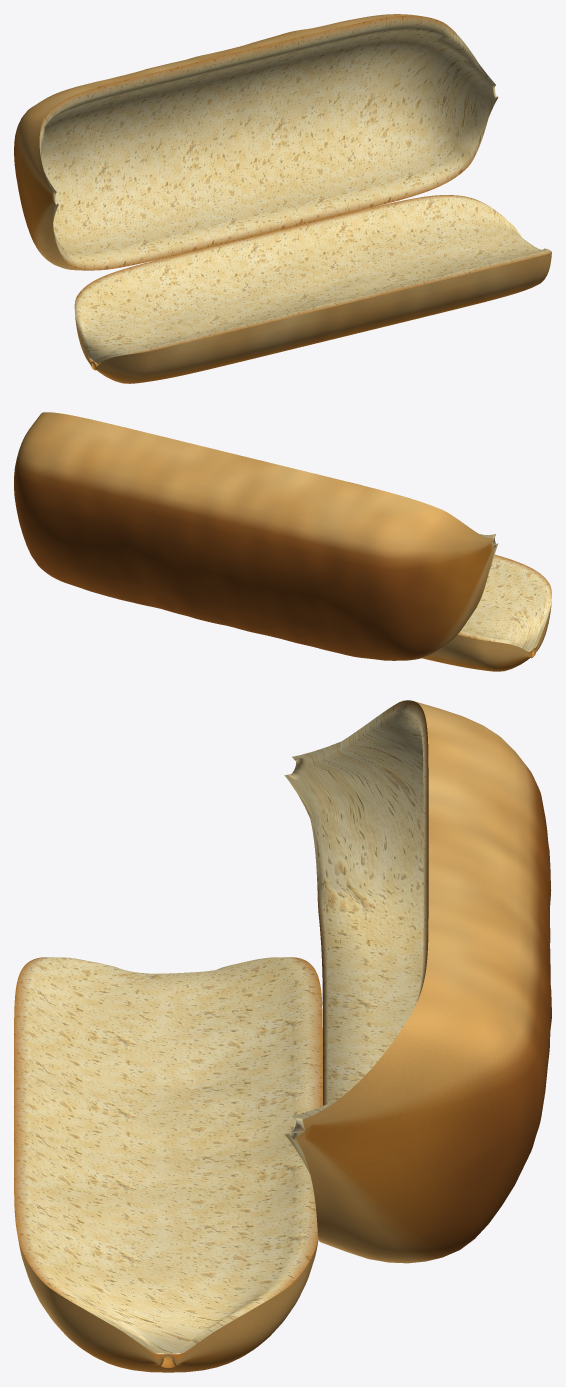
The model's file is dog-brioche.glb.
3 views of the same model, one above another, from view 1: azimuth 30°, elevation 25°; view 2: azimuth 150°, elevation 25°; view 3: azimuth 270°, elevation 25° (orthographic). The views are drawn at different scales.
Visible parts, largest first — view 1: dog_brioche_tampa, dog_brioche_base; view 2: dog_brioche_tampa, dog_brioche_base; view 3: dog_brioche_tampa, dog_brioche_base.
Part boxes in pixels (x1,y1,x2,y2): dog_brioche_tampa: [14, 14, 498, 270]; dog_brioche_base: [74, 195, 551, 383]; dog_brioche_tampa: [14, 412, 498, 660]; dog_brioche_base: [422, 554, 551, 671]; dog_brioche_tampa: [284, 700, 551, 1263]; dog_brioche_base: [14, 957, 322, 1372].
Bounding box in the file's own units: 0.2239 × 0.1053 × 0.1418.
2 materials, 2 textured.
